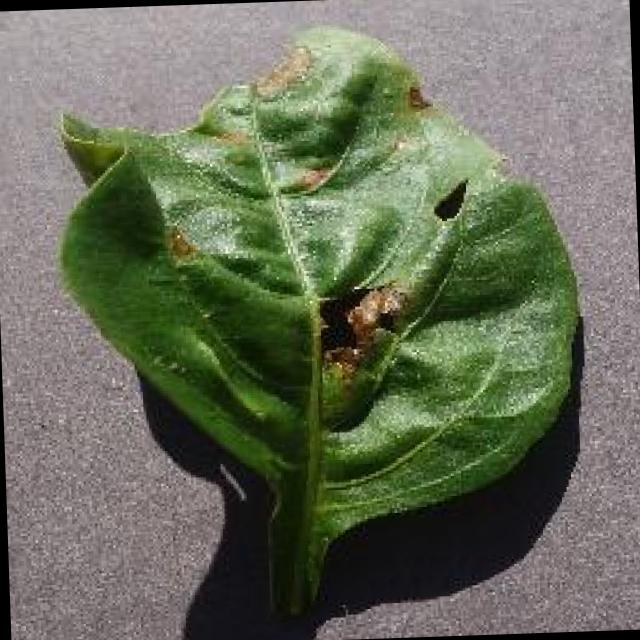Chilli_Bacterial_Spot: (45, 11, 593, 627), (242, 17, 433, 200), (308, 277, 414, 430), (248, 38, 318, 102), (342, 280, 408, 344), (274, 160, 336, 200), (369, 282, 410, 321), (162, 222, 198, 263), (402, 78, 432, 112)
